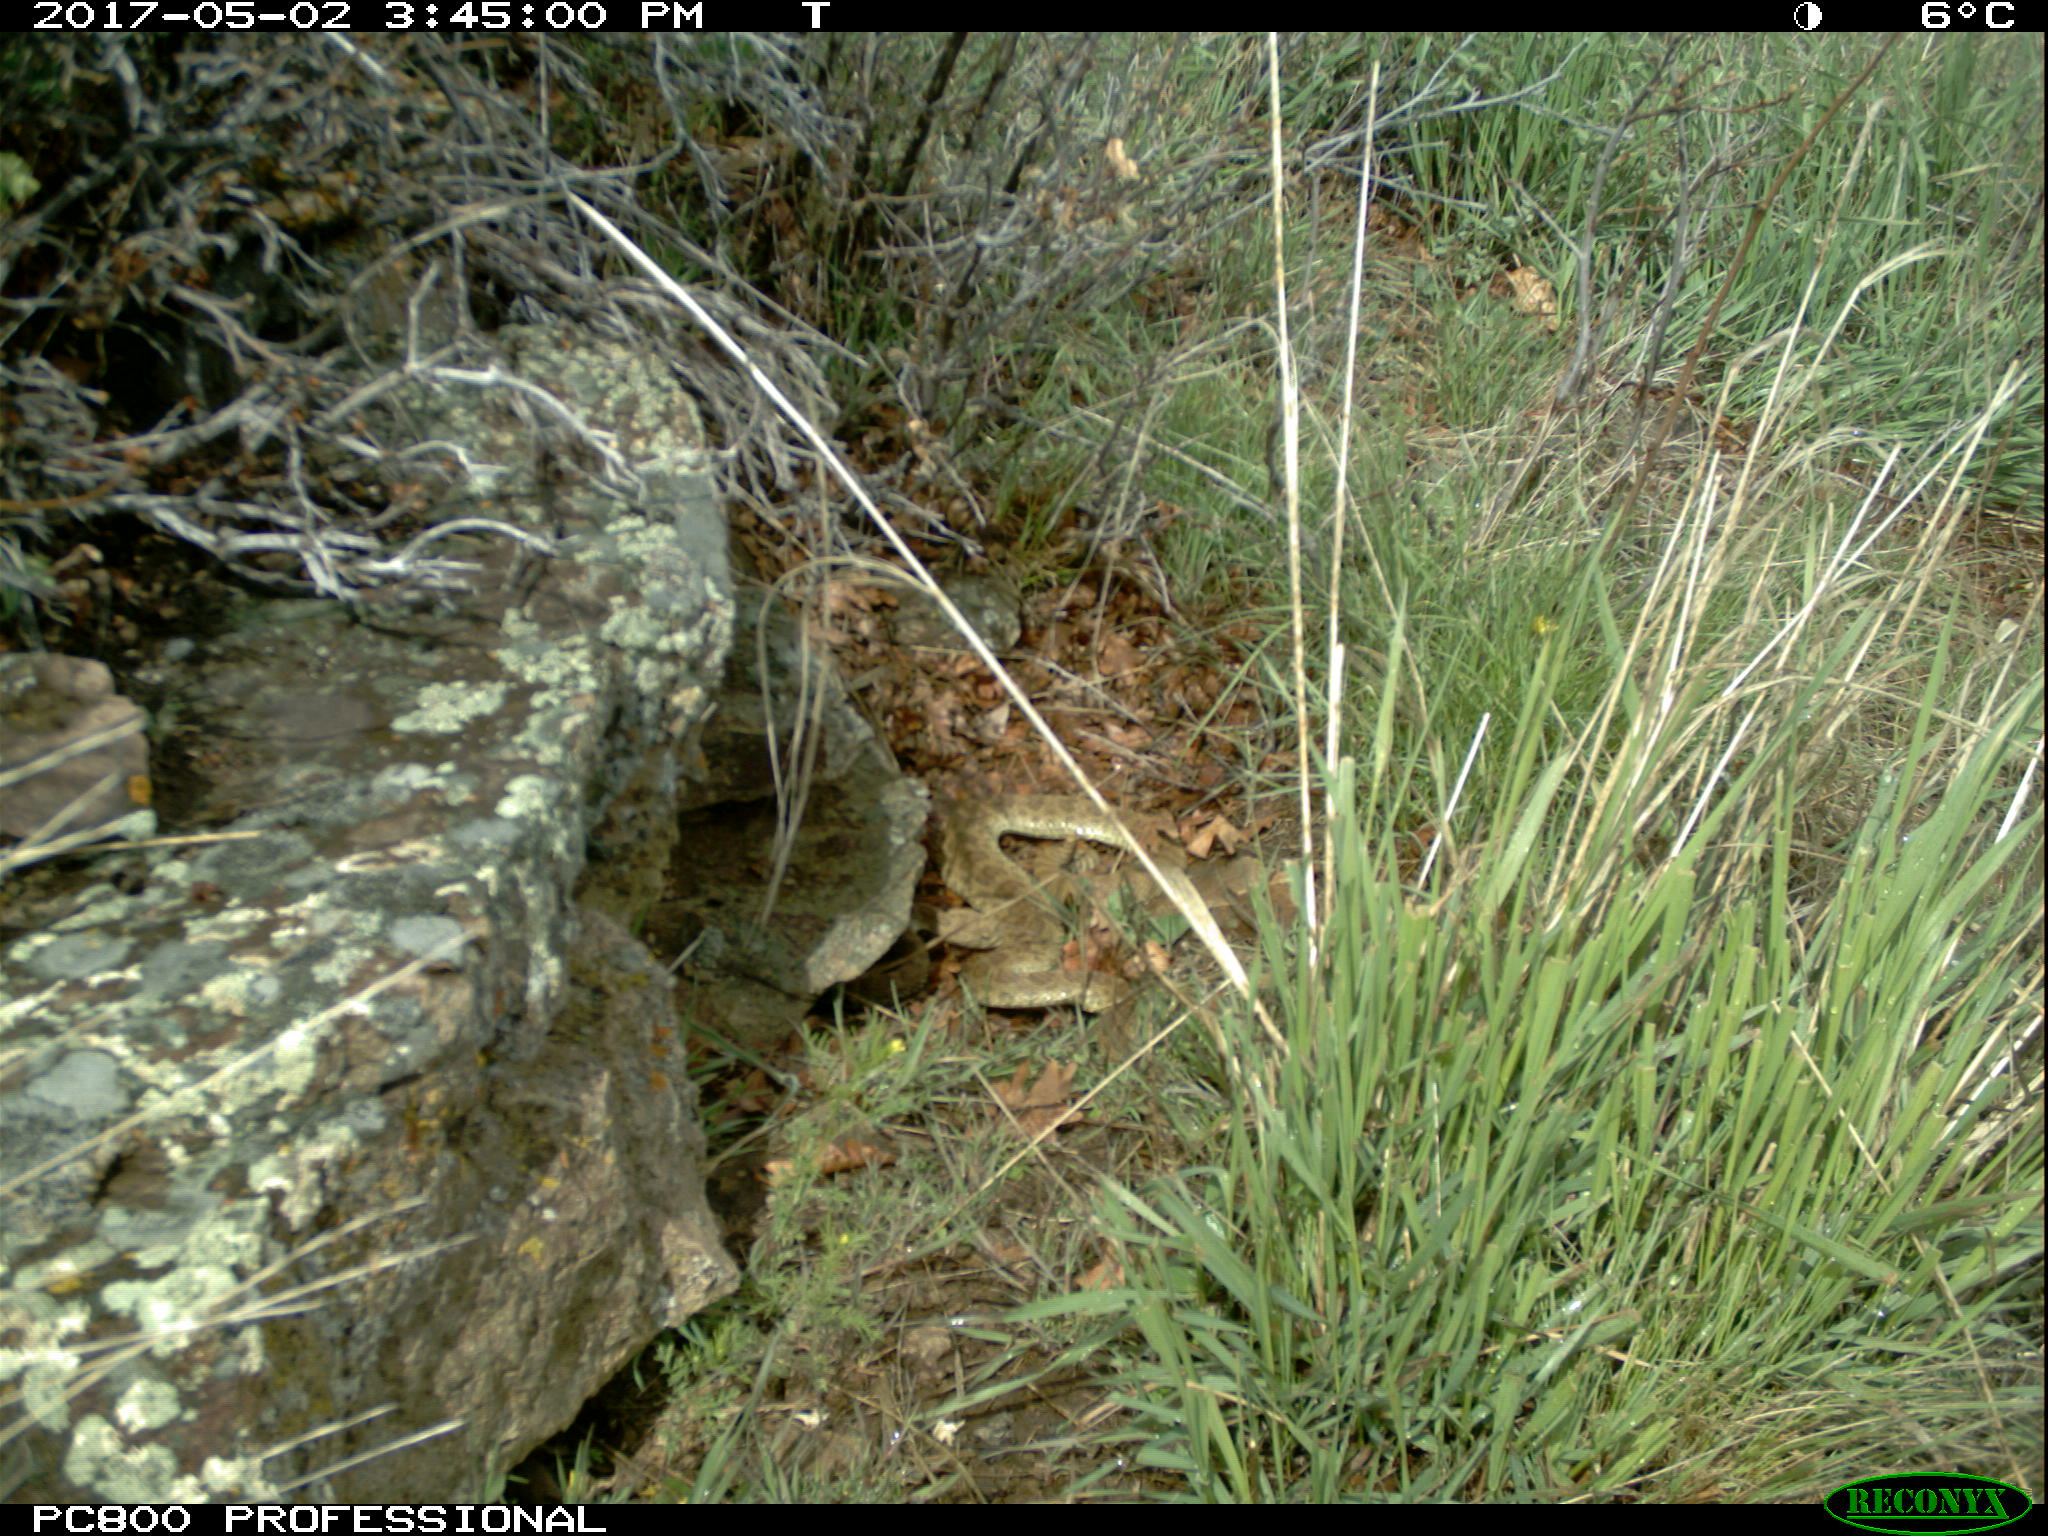snake: (921, 797, 1216, 1025)
